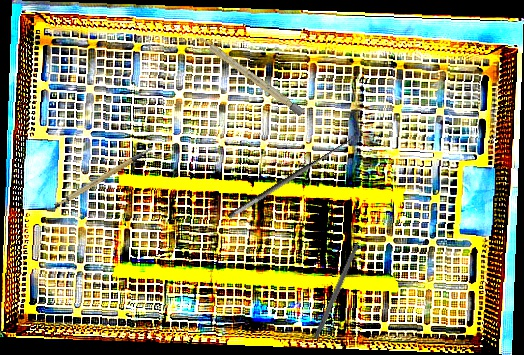Hook Surgical: (220, 126, 357, 222), (312, 226, 369, 341)
Scalpel Handle: (194, 33, 305, 117), (48, 146, 160, 211)
